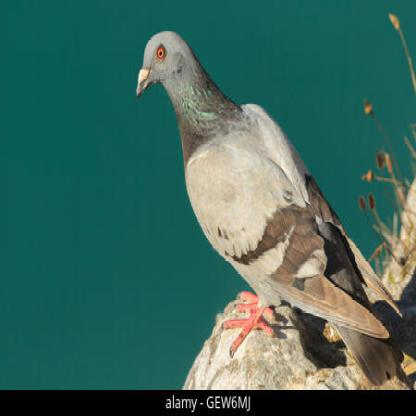Flying Rat: (127, 28, 405, 360)
